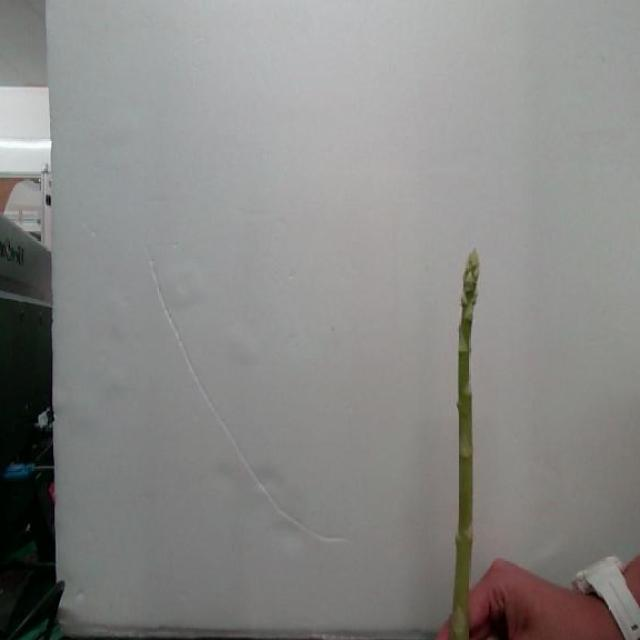aspargus: (453, 252, 481, 640)
